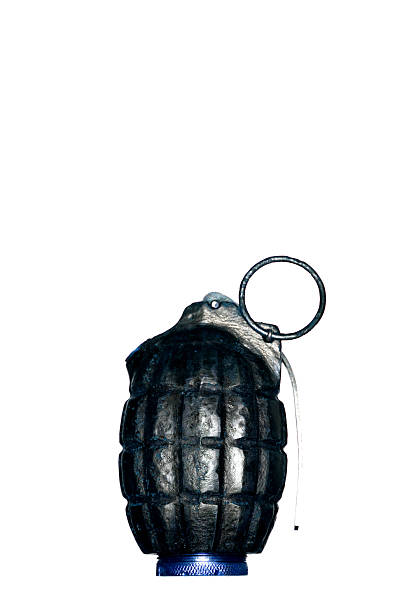e1: (118, 251, 330, 581)
